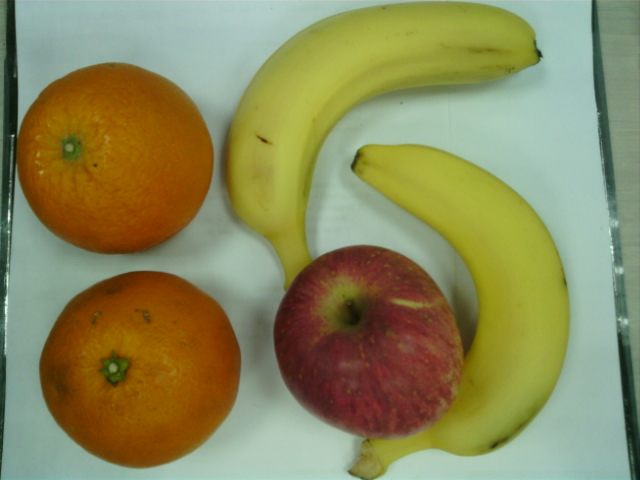normal_apple: (273, 245, 464, 438)
normal_banana: (231, 1, 540, 274), (352, 144, 569, 480)
normal_orange: (41, 270, 240, 468), (21, 62, 215, 254)
